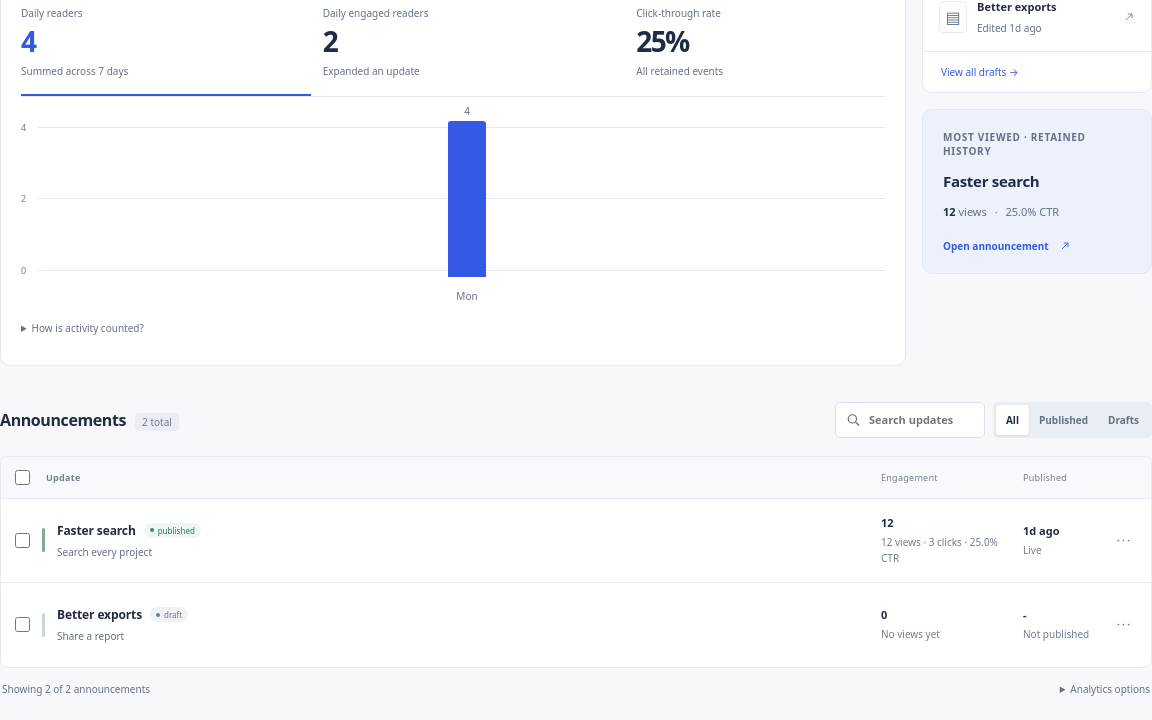
Test: Publishing workspace › clears hidden selections when changing status filters
The width and height of the screenshot is (1152, 720).
(page scrolled)
Click the checkbox named "Select Faster search" at (22, 540), box [15, 533, 30, 548]
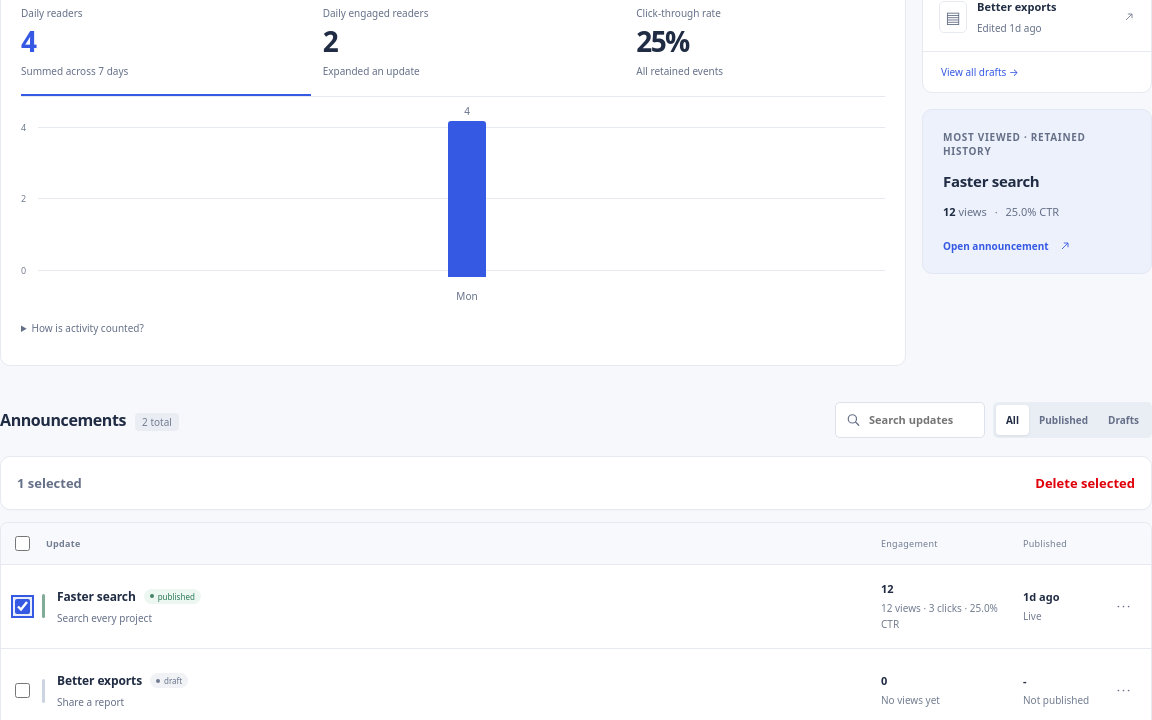
expect the button "Delete selected" is shown: met, box [1035, 467, 1135, 499]
Click the button "Drafts" at (1124, 420), box [1098, 405, 1149, 435]
(page scrolled)
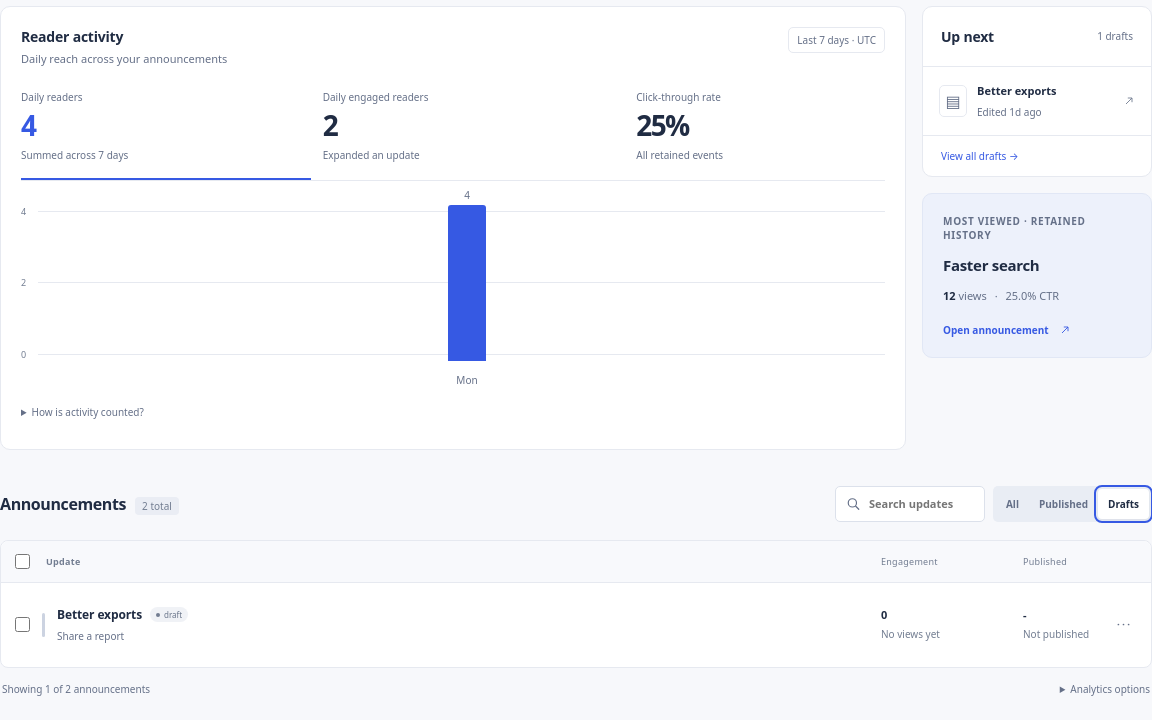
expect the checkbox named "Select Better exports" is shown: met, box [15, 617, 30, 632]
expect the button "Delete selected" is gone: met
